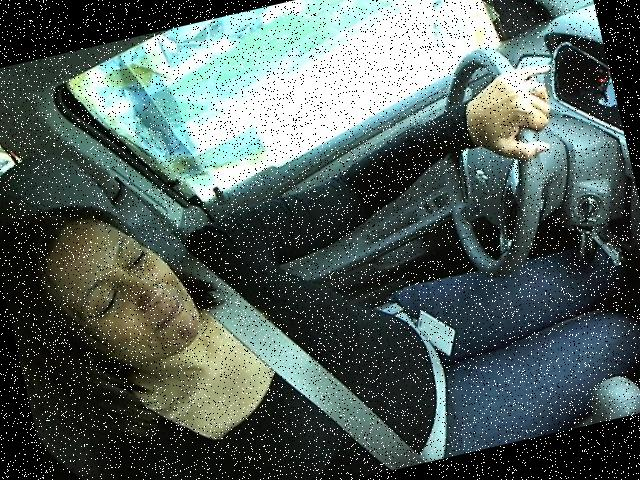c5 - Reaching Behind: (0, 18, 626, 479)
